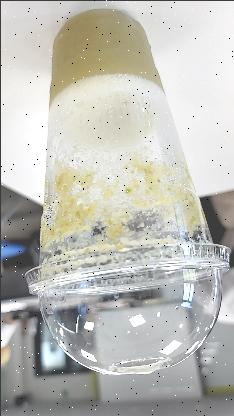Others: (24, 6, 232, 376), (23, 242, 234, 374)
